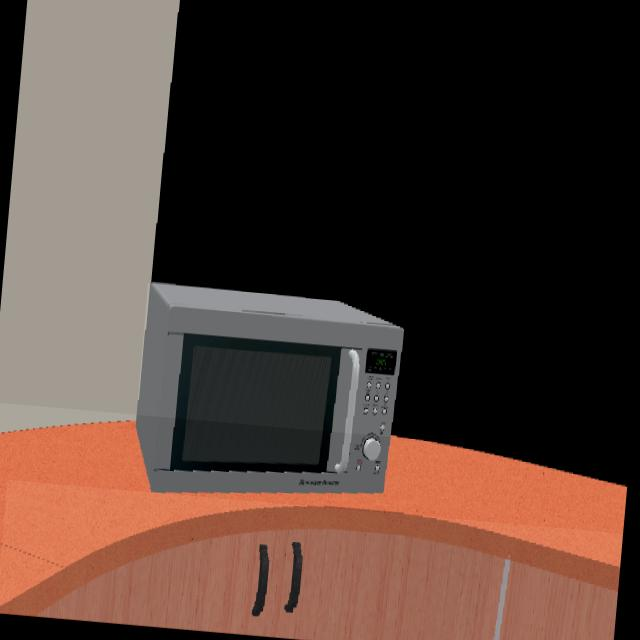cabinet: (0, 513, 618, 640)
countertop: (0, 423, 626, 612)
microwave: (135, 284, 404, 494)
